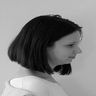ear: (37, 37, 54, 55)
